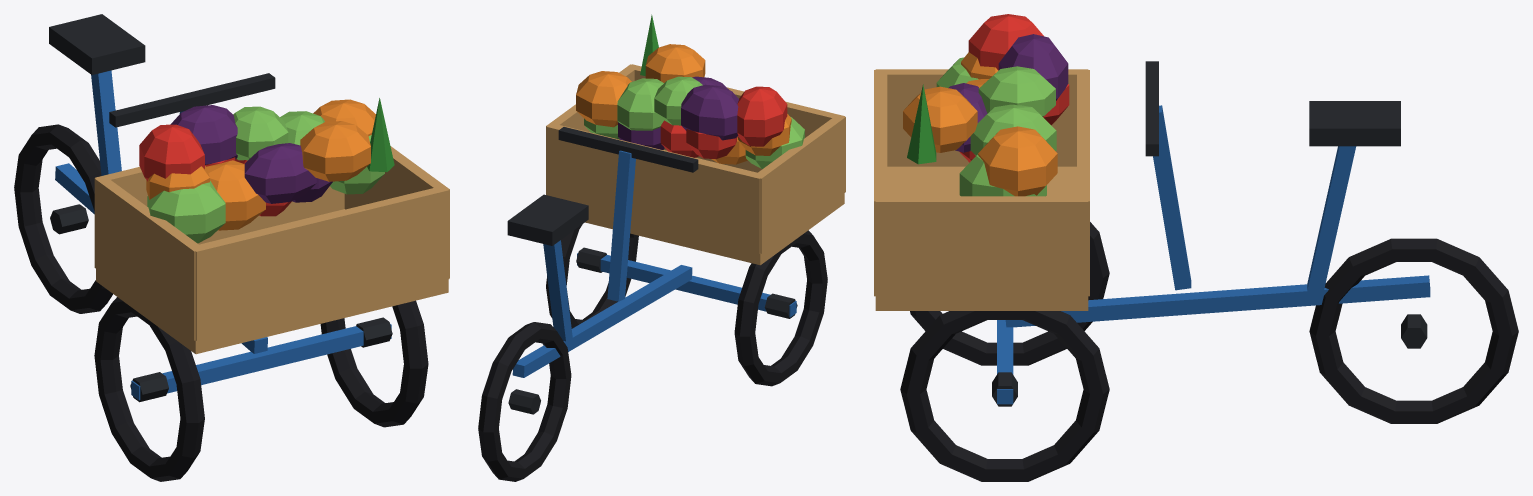
Rendered from veggie_trike.glb.
The picture shows the model from 3 angles, left to right: view 1: azimuth 30°, elevation 25°; view 2: azimuth 150°, elevation 25°; view 3: azimuth 270°, elevation 25°; orthographic projection. The views are drawn at different scales.
Parts seen in each view (by area): view 1: crate_crate_wood, wheels_tire, veggies_veg_pumpkin, frame_trike_frame, veggies_veg_cabbage, frame_trike_black, veggies_veg_eggplant, veggies_veg_tomato, wheels_trike_black, veggies_veg_carrot_leaf; view 2: crate_crate_wood, wheels_tire, frame_trike_frame, veggies_veg_pumpkin, frame_trike_black, veggies_veg_cabbage, veggies_veg_tomato, veggies_veg_eggplant, wheels_trike_black, veggies_veg_carrot_leaf; view 3: crate_crate_wood, wheels_tire, frame_trike_frame, veggies_veg_pumpkin, veggies_veg_cabbage, frame_trike_black, veggies_veg_eggplant, veggies_veg_tomato, wheels_trike_black, veggies_veg_carrot_leaf.
Part boxes in pixels (<box>): crate_crate_wood: <box>94,146,449,354</box>; wheels_tire: <box>14,124,428,481</box>; veggies_veg_pumpkin: <box>146,99,375,230</box>; frame_trike_frame: <box>55,70,391,400</box>; veggies_veg_cabbage: <box>147,106,384,243</box>; frame_trike_black: <box>49,14,275,127</box>; veggies_veg_eggplant: <box>170,105,332,203</box>; veggies_veg_tomato: <box>139,124,291,216</box>; wheels_trike_black: <box>50,204,392,402</box>; veggies_veg_carrot_leaf: <box>367,98,394,172</box>; crate_crate_wood: <box>546,64,845,265</box>; wheels_tire: <box>478,224,827,481</box>; frame_trike_frame: <box>512,150,796,377</box>; veggies_veg_pumpkin: <box>576,44,791,164</box>; frame_trike_black: <box>507,127,698,245</box>; veggies_veg_cabbage: <box>584,76,804,168</box>; veggies_veg_tomato: <box>660,86,787,158</box>; veggies_veg_eggplant: <box>618,76,738,149</box>; wheels_trike_black: <box>508,247,797,414</box>; veggies_veg_carrot_leaf: <box>640,14,658,76</box>; crate_crate_wood: <box>874,69,1089,310</box>; wheels_tire: <box>900,222,1518,481</box>; frame_trike_frame: <box>997,105,1430,404</box>; veggies_veg_pumpkin: <box>903,52,1057,196</box>; veggies_veg_cabbage: <box>936,57,1056,196</box>; frame_trike_black: <box>1145,61,1400,156</box>; veggies_veg_eggplant: <box>948,34,1068,152</box>; veggies_veg_tomato: <box>959,14,1069,162</box>; wheels_trike_black: <box>992,314,1427,406</box>; veggies_veg_carrot_leaf: <box>907,84,936,164</box>.
Size of the model in its own units: 0.96 by 1.29 by 1.97.
